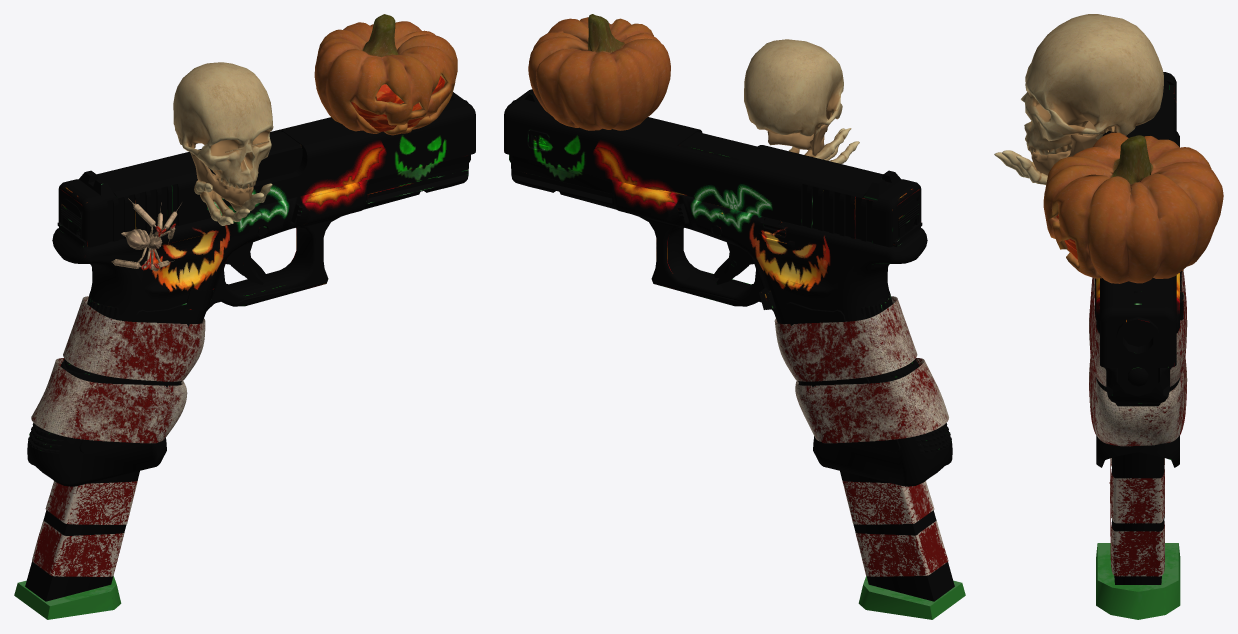
The model's file is WEAPON_GLOCK_HALLOWEEN.glb.
3 views of the same model, side by side, from view 1: azimuth 30°, elevation 25°; view 2: azimuth 150°, elevation 25°; view 3: azimuth 270°, elevation 25° (orthographic). The views are drawn at different scales.
Visible parts, largest first — view 1: AAPCamo.003; view 2: AAPCamo.003; view 3: AAPCamo.003.
Boxes of the visible parts, x1,y1,x2,y2 form: AAPCamo.003: [14, 14, 475, 619]; AAPCamo.003: [504, 14, 965, 619]; AAPCamo.003: [994, 14, 1223, 619].
Bounding box in the file's own units: 0.2138 × 0.2422 × 0.0772.
9 materials, 9 textured.
